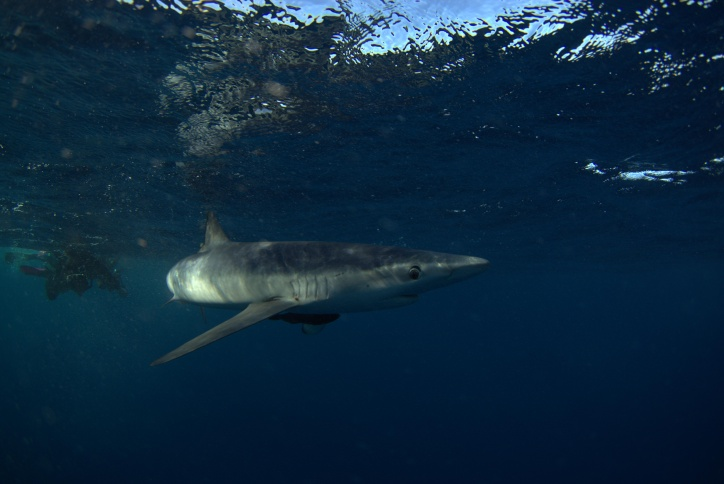Azul: (141, 198, 514, 375)
